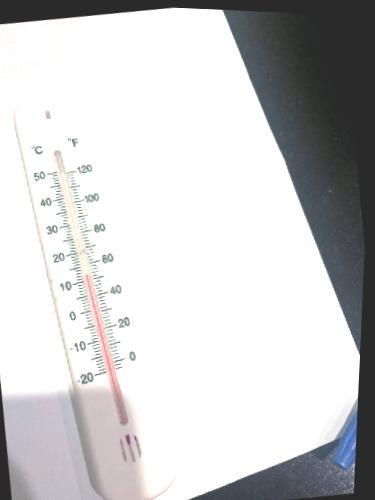thermo: (0, 90, 183, 500)
